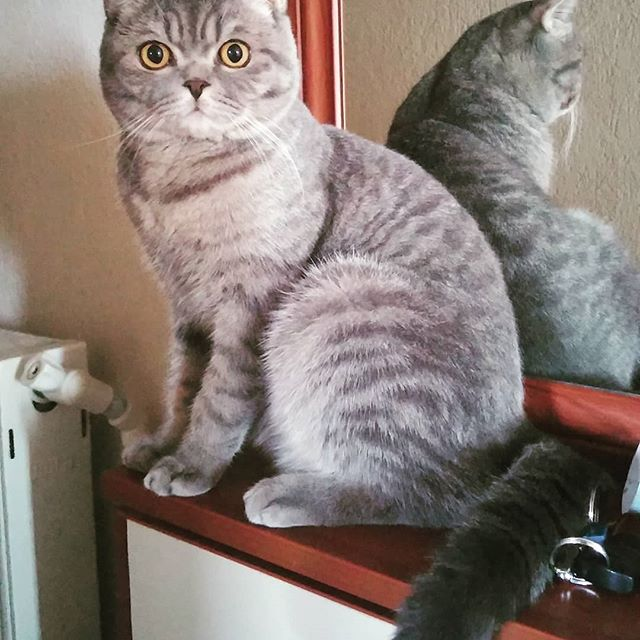cat: (95, 1, 328, 283)
